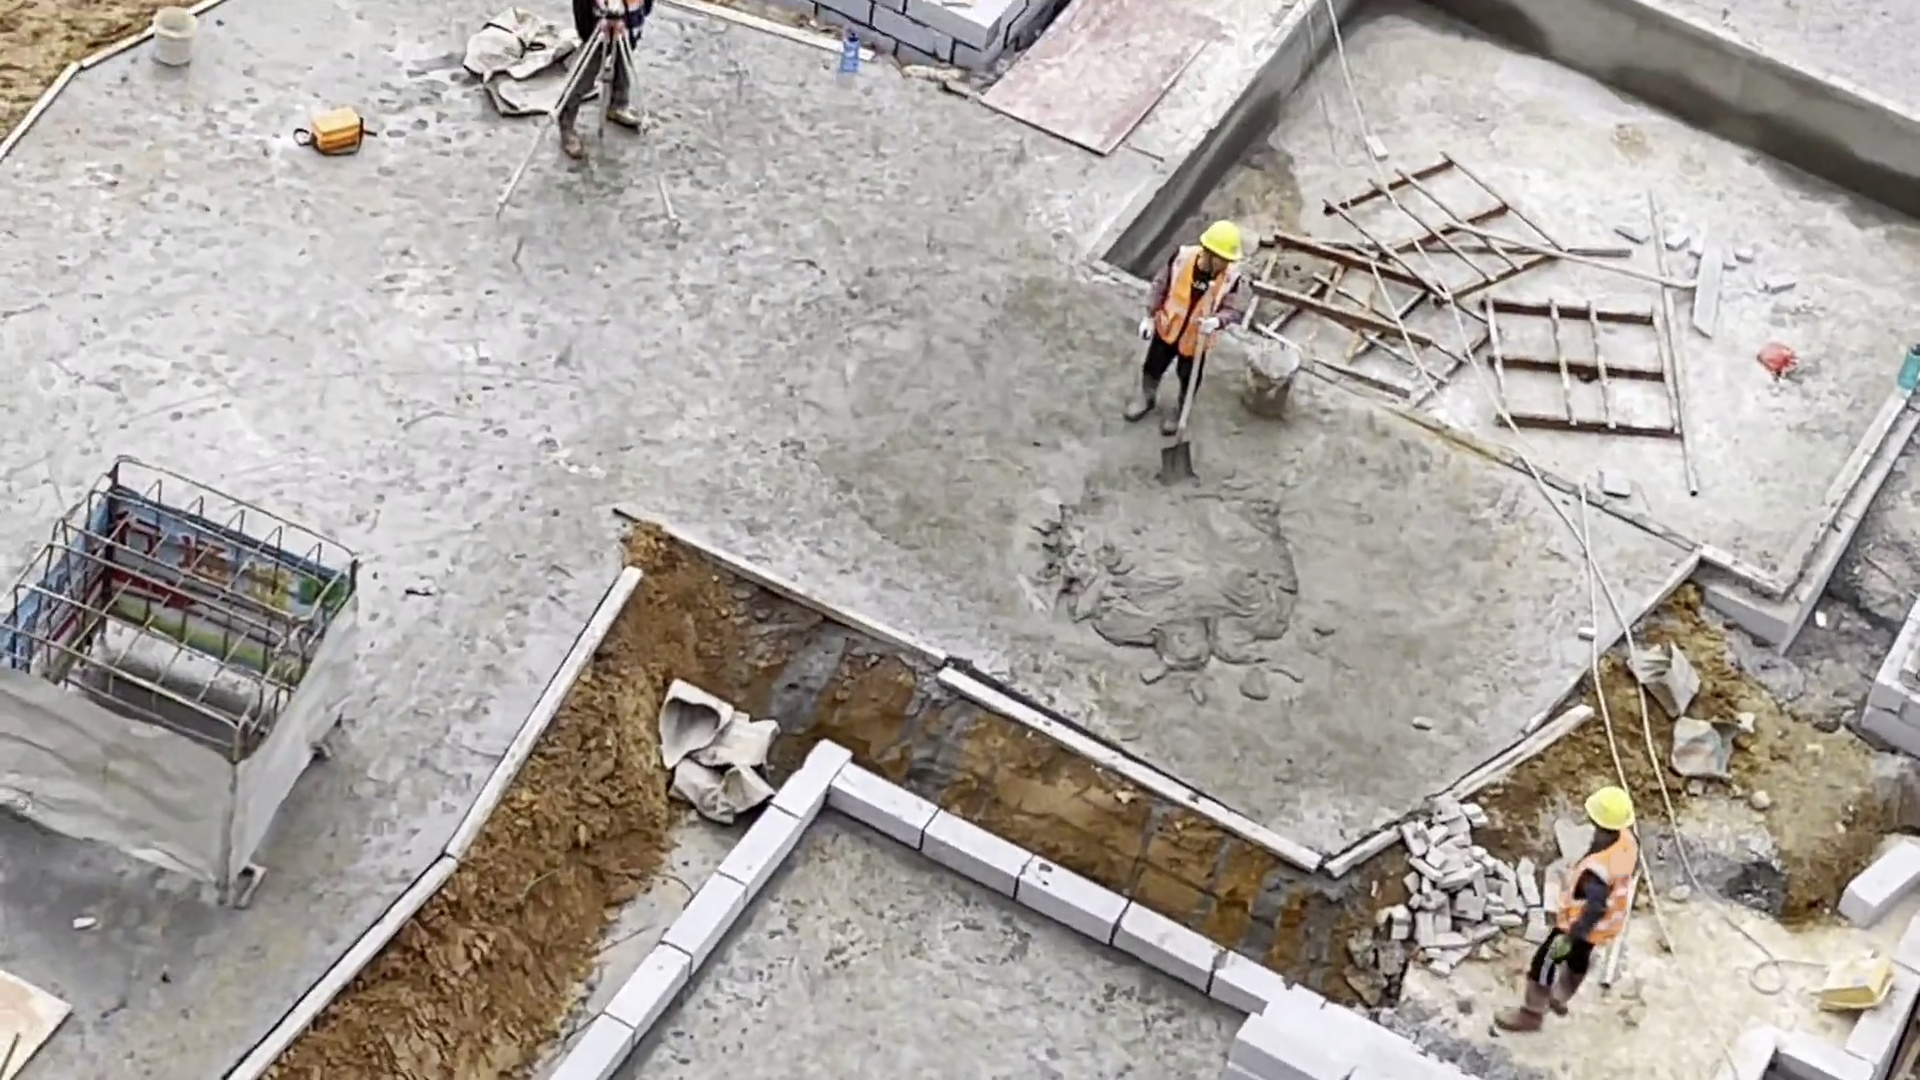helmet: (1582, 786, 1642, 831), (1199, 219, 1244, 266)
person: (1489, 785, 1646, 1034), (1117, 217, 1249, 430), (555, 1, 646, 161)
vest: (1164, 239, 1244, 368), (1556, 825, 1643, 940)
